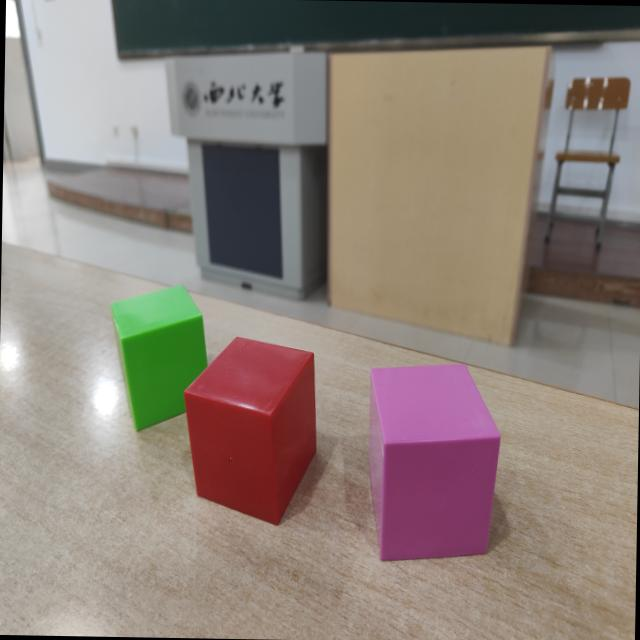green: (109, 287, 209, 432)
pink: (367, 366, 501, 565)
red: (183, 338, 319, 527)
